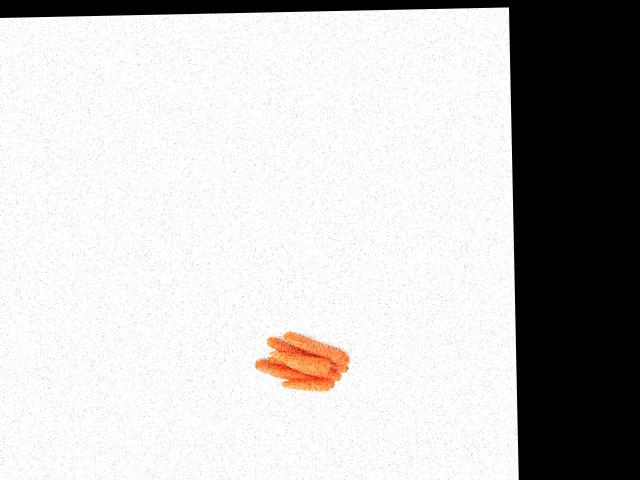carrot: (284, 328, 354, 368)
